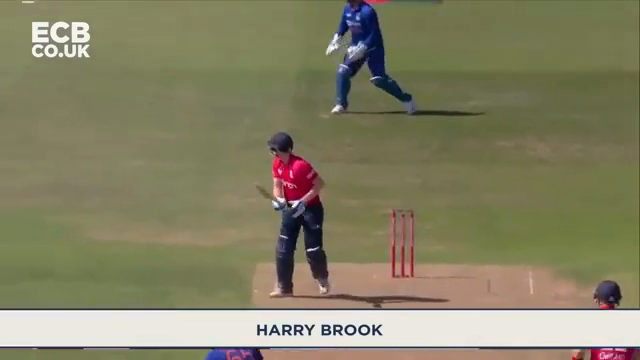Keeper: (307, 1, 434, 121)
batsman: (255, 134, 332, 297)
